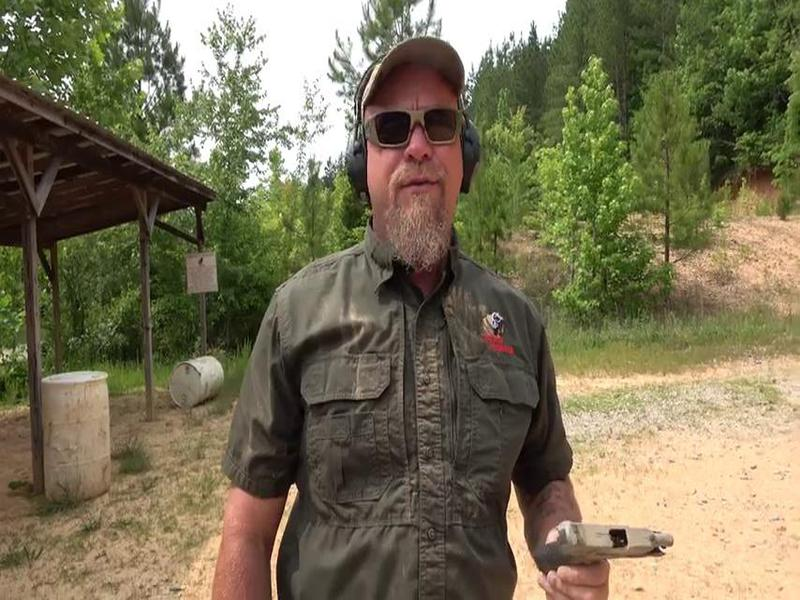Pistola: (527, 494, 690, 600)
